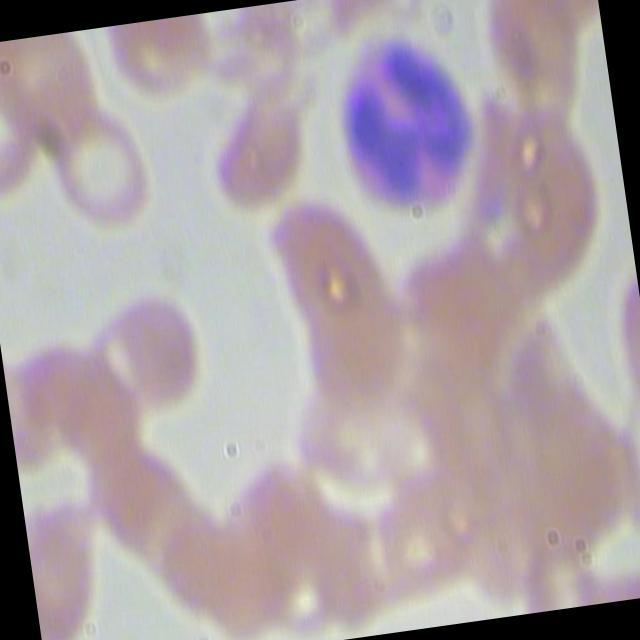WBC: (321, 16, 498, 223)
